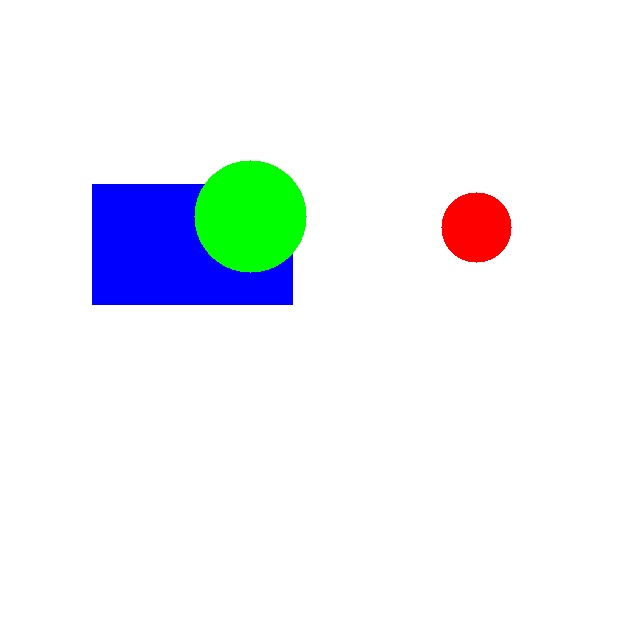cartao: (92, 184, 292, 304)
rosca_externa: (194, 160, 306, 272)
rosca_interna: (441, 192, 511, 262)
